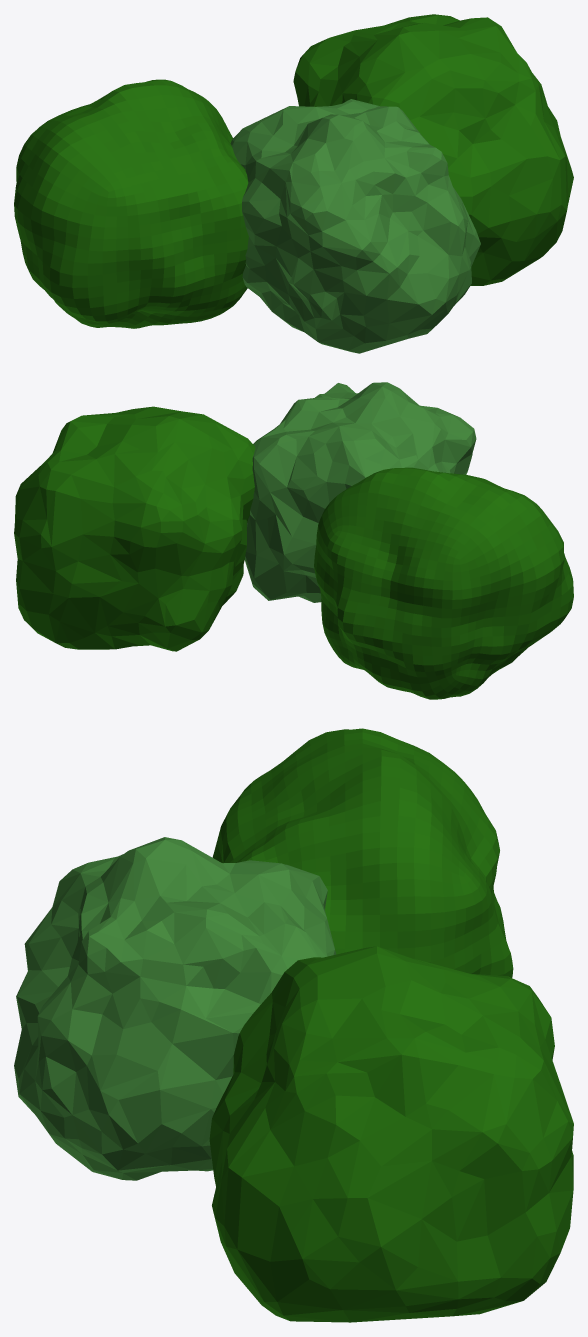
File: Bush big 1.2.fbx
The picture shows the model from 3 angles, top to bottom: view 1: azimuth 30°, elevation 25°; view 2: azimuth 150°, elevation 25°; view 3: azimuth 270°, elevation 25°; orthographic projection. The views are drawn at different scales.
Parts seen in each view (by area): view 1: Cube.284; view 2: Cube.284; view 3: Cube.284.
Part boxes in pixels (<box>): Cube.284: <box>14,14,573,353</box>; Cube.284: <box>14,382,573,699</box>; Cube.284: <box>14,728,573,1322</box>.
Size of the model in its own units: 3488 by 1571 by 2297.
